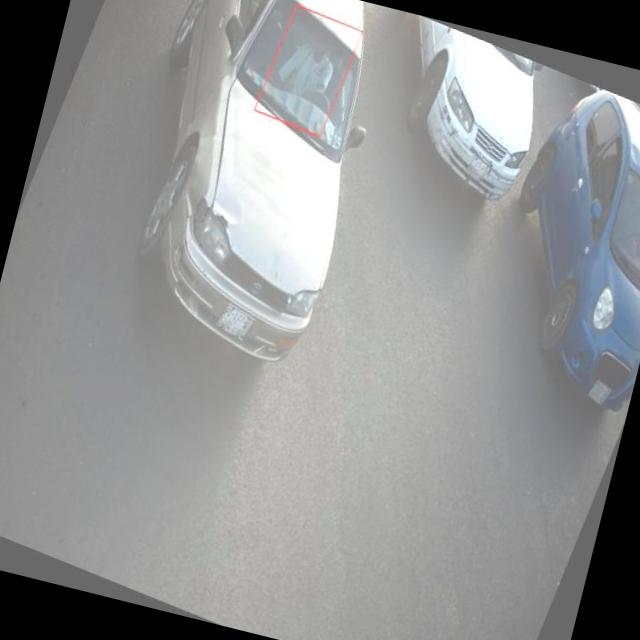person_without_seatbelt: (272, 16, 346, 118)
